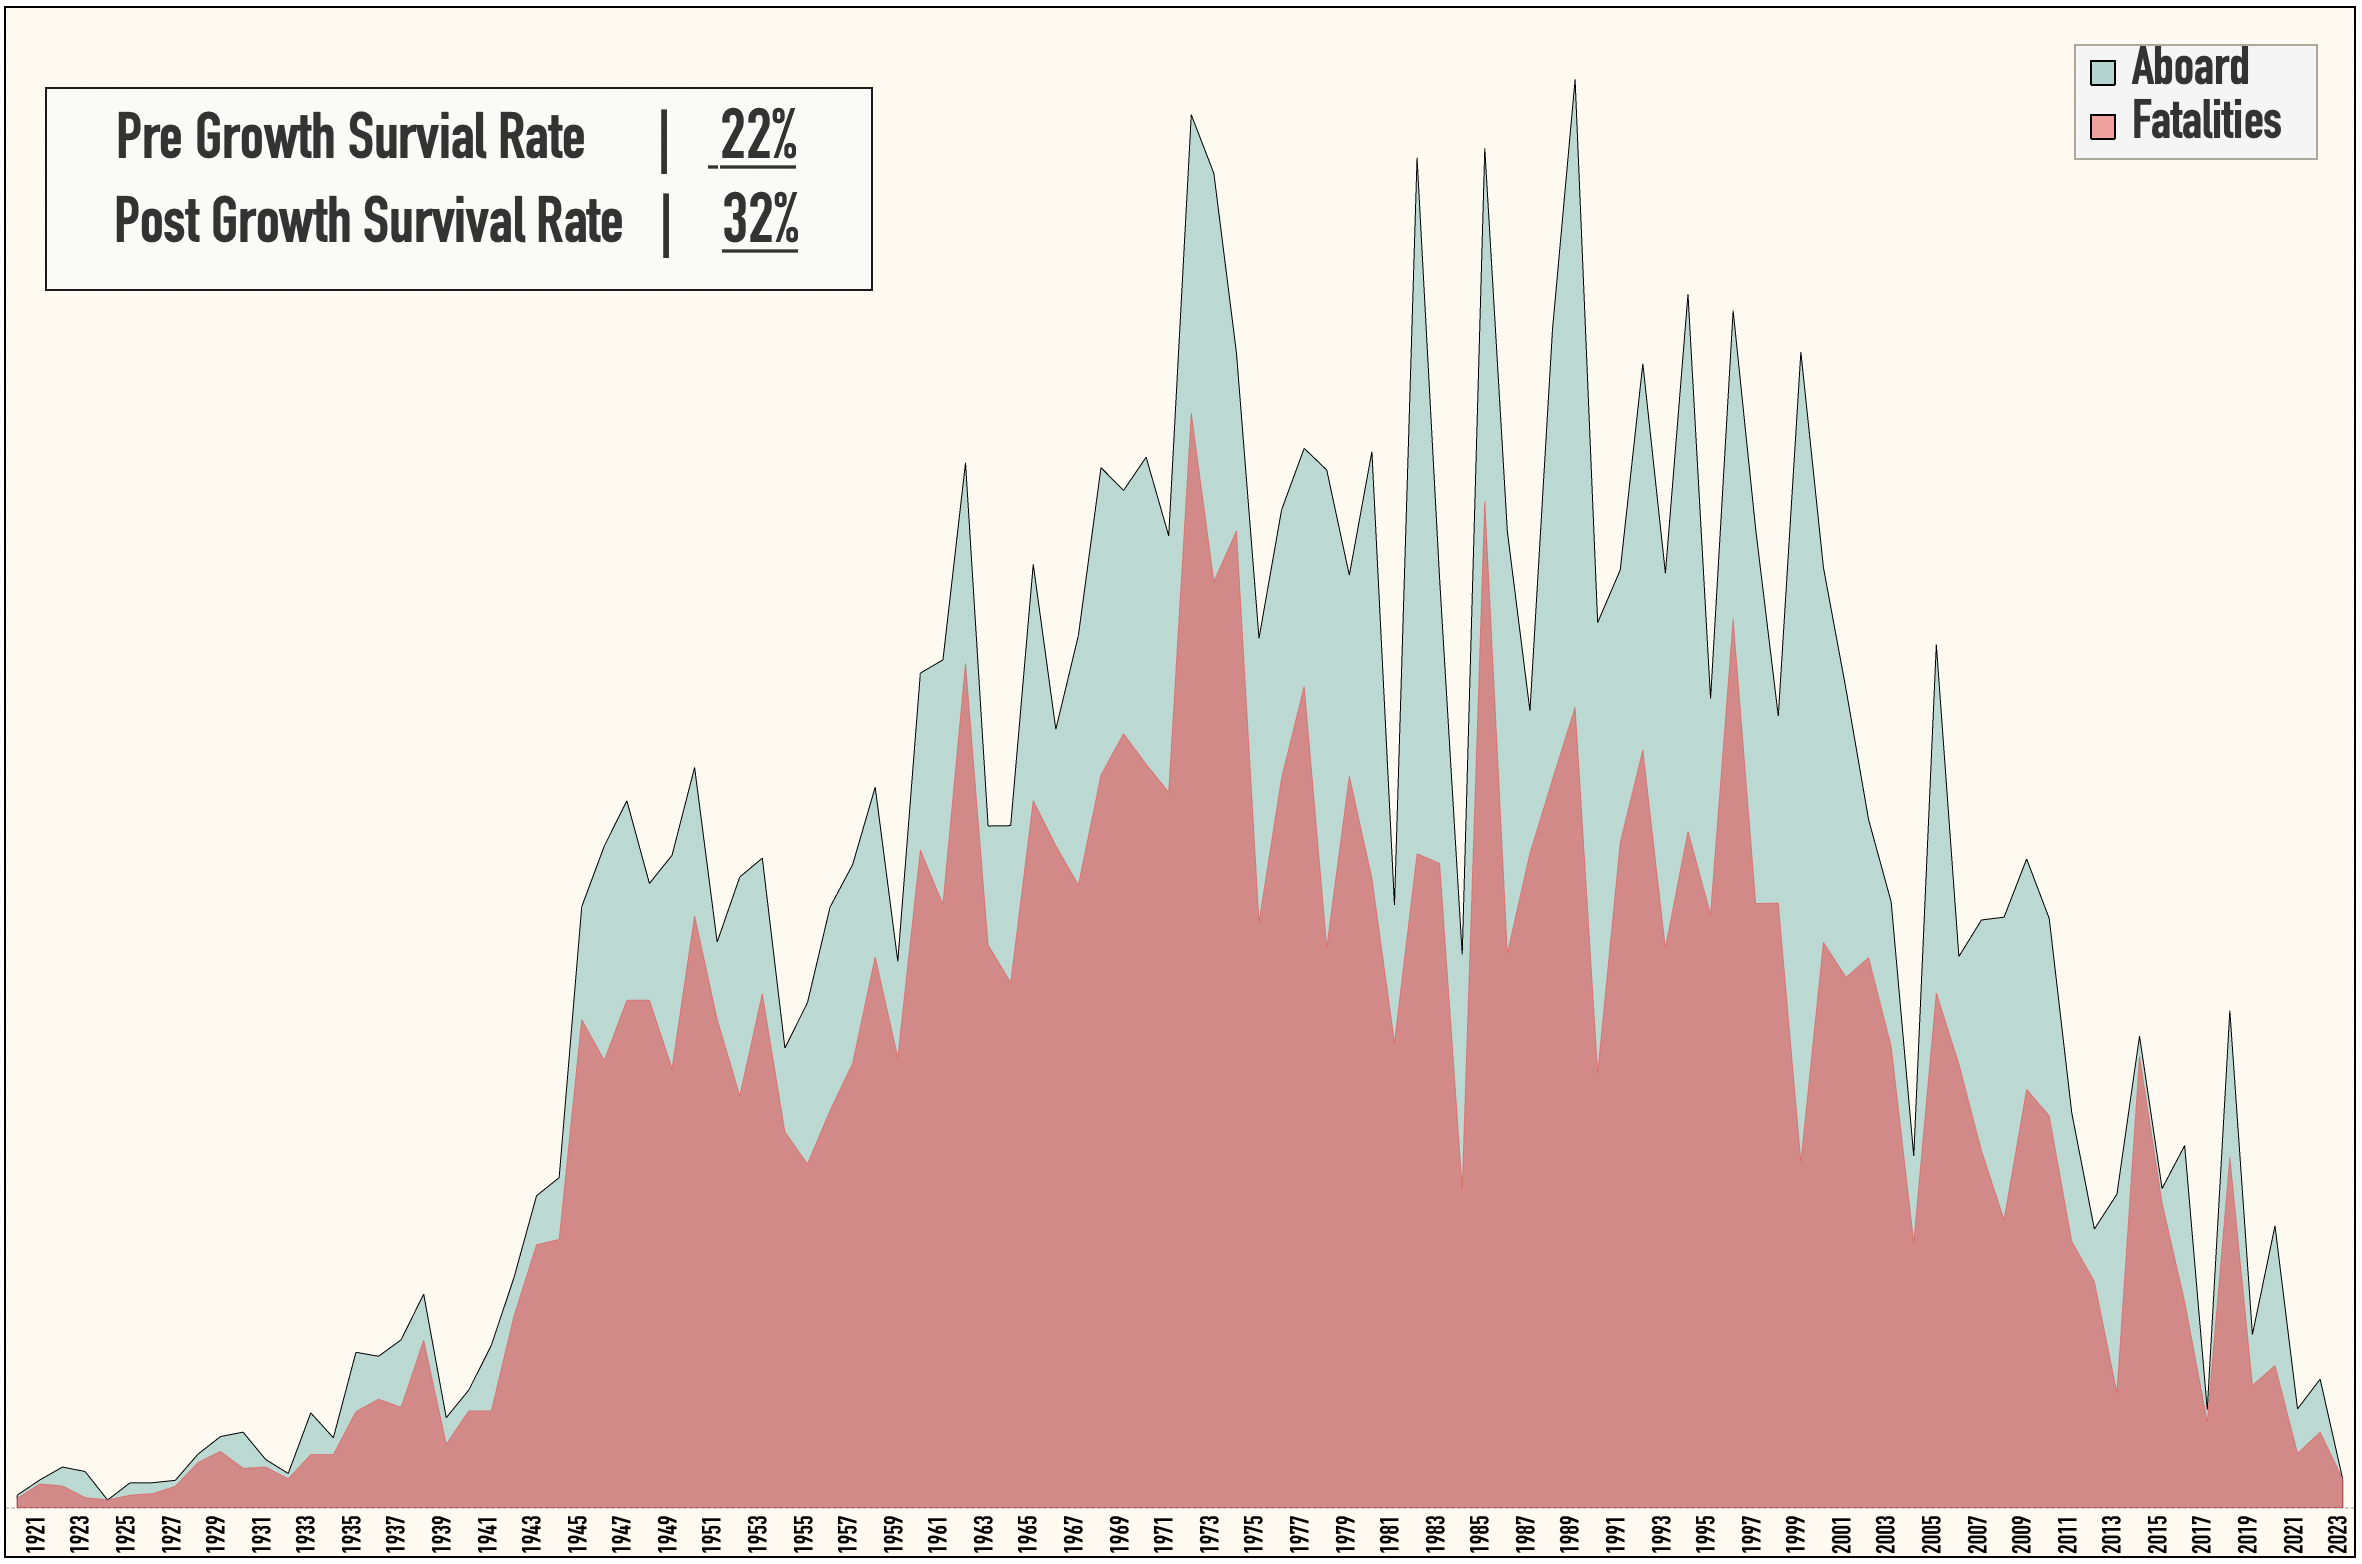

This screenshot's page, from the dashboard's own definition file:
{"tool":"tableau","page":{"name":"Passenger Aboard","canvas":[1200,800],"ordinal":4},"visuals":[{"type":"worksheet","title":"Sheet 2","mark":"Area","rows":["aboard total","Calculation_1294362742656212992"],"cols":["Date"],"box":[8,8,1184,784]},{"type":"legend","title":"Sheet 2","param":"[federated.0i57arz0id4zm21btt5wt0yg8qbb].[:Measure Names]","box":[1047,31,122,58]}]}

Visuals, with their boxes in screenshot pixels (x1, y1, x2, y2), scaled from the page's 1200x800 canvas onto the 2362x1564 screenshot:
"Sheet 2" worksheet (Area marks): detection(16, 16, 2346, 1548)
"Sheet 2" legend: detection(2061, 61, 2301, 174)
